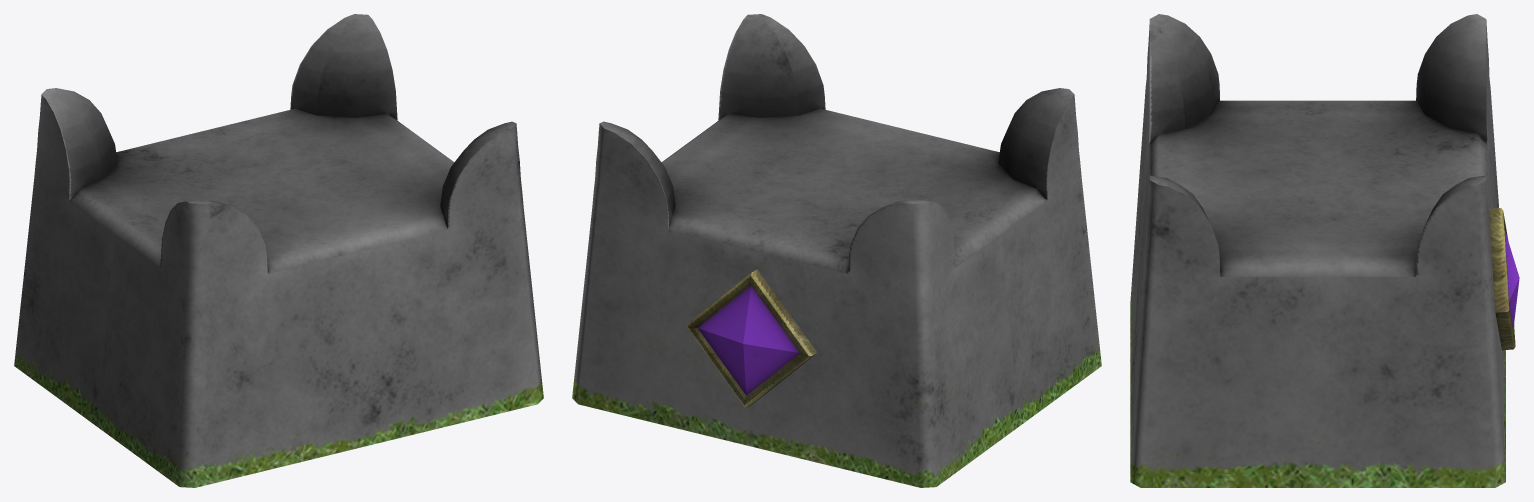
Rendered from Shrine_01.fbx.
The picture shows the model from 3 angles, left to right: view 1: azimuth 30°, elevation 25°; view 2: azimuth 150°, elevation 25°; view 3: azimuth 270°, elevation 25°; orthographic projection. The views are drawn at different scales.
Visible parts, largest first — view 1: pCube4; view 2: pCube4; view 3: pCube4.
Boxes of the visible parts, x1,y1,x2,y2 form: pCube4: (14,14,543,487); pCube4: (572,14,1101,487); pCube4: (1130,14,1519,487).
Size of the model in its own units: 8.34 by 5.98 by 7.19.
1 material, 1 textured.
